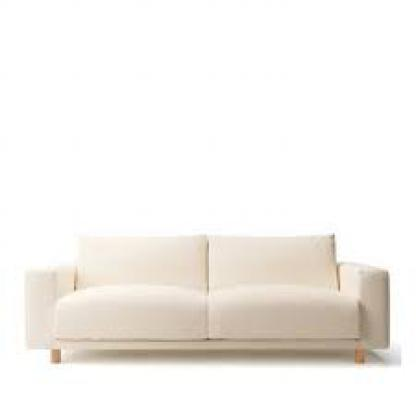sofa: (28, 233, 396, 366)
